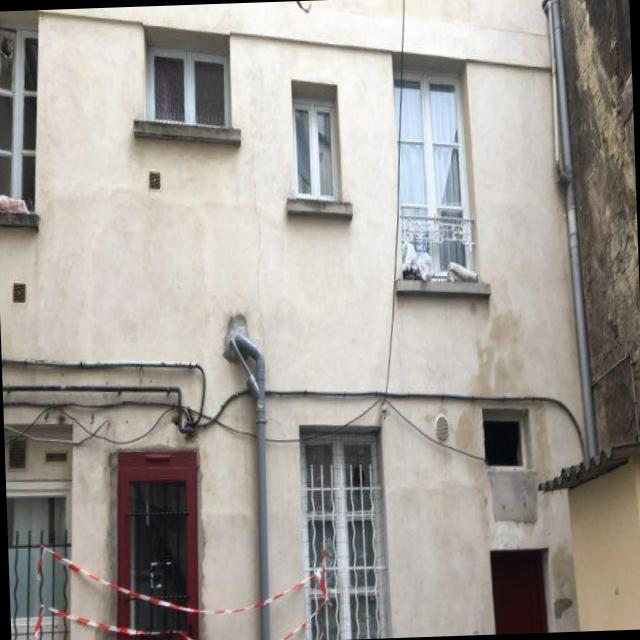crack: (251, 155, 270, 392)
